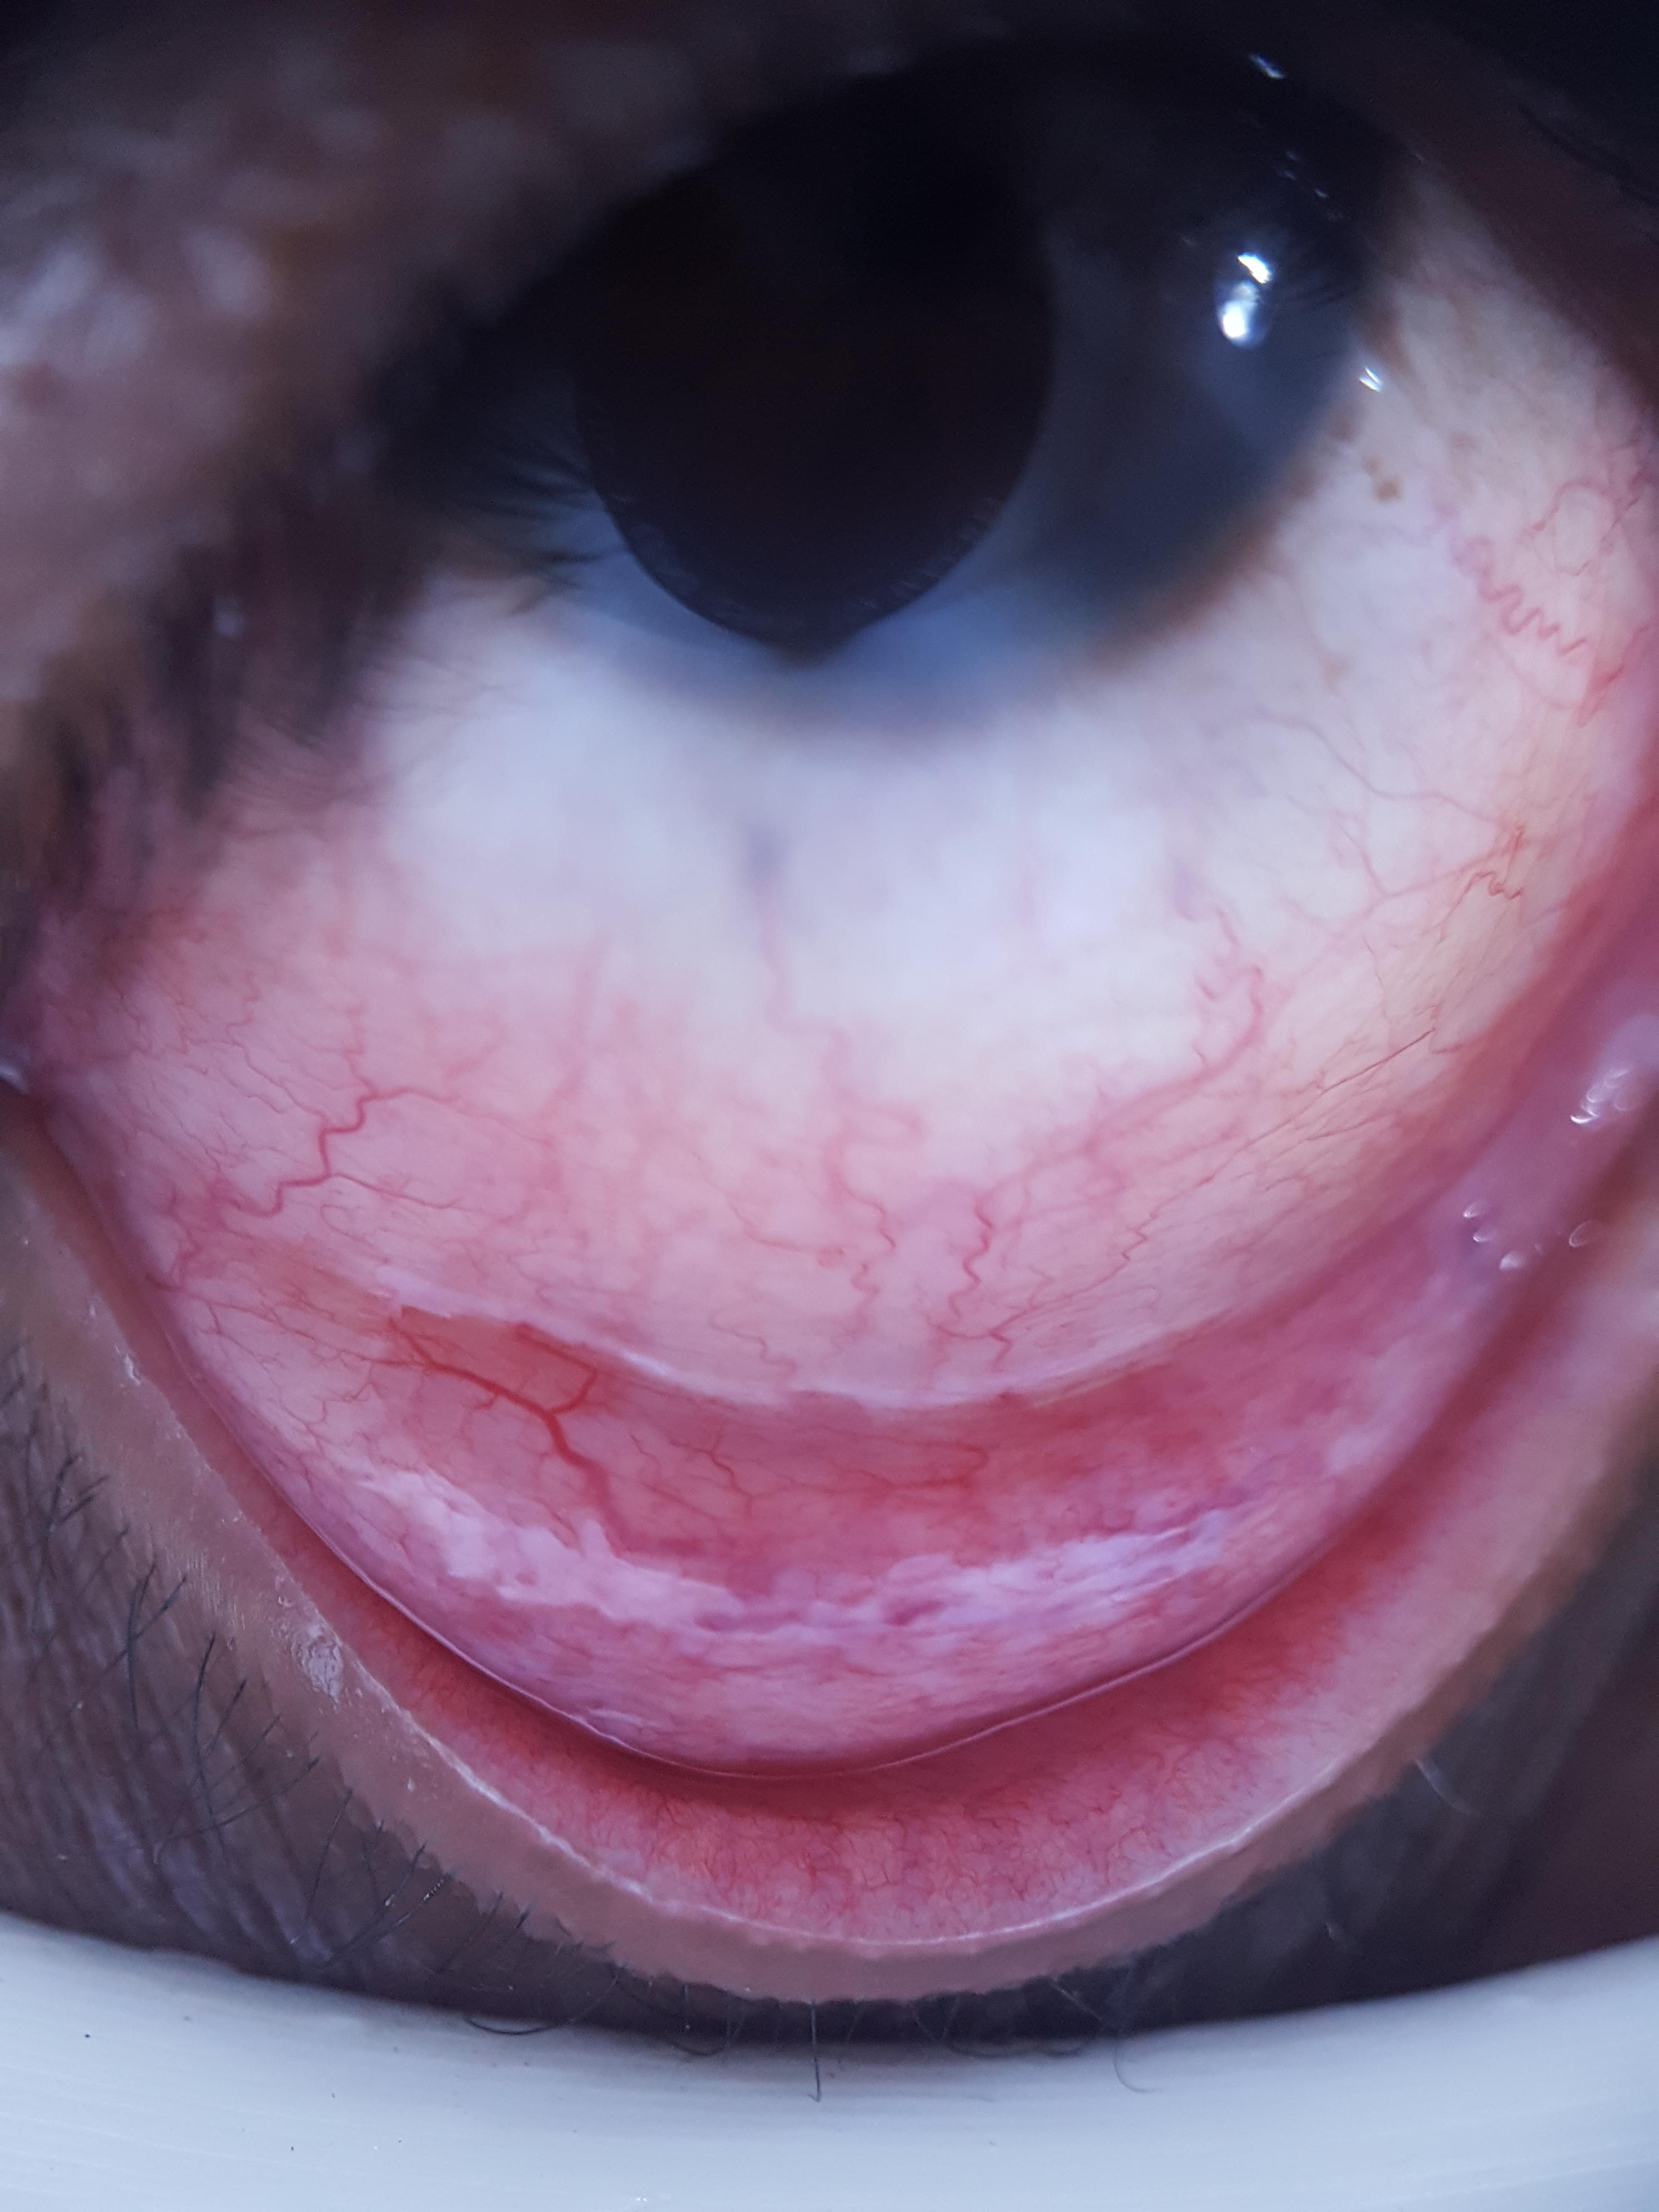forniceal: (75, 1085, 1624, 1773)
forniceal_palpebral: (71, 1068, 1659, 1912)
palpebral: (160, 1078, 1659, 1895)
